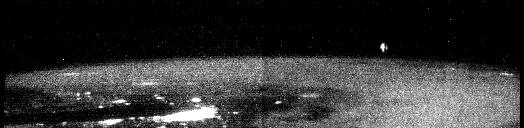positive: (376, 40, 389, 55)
